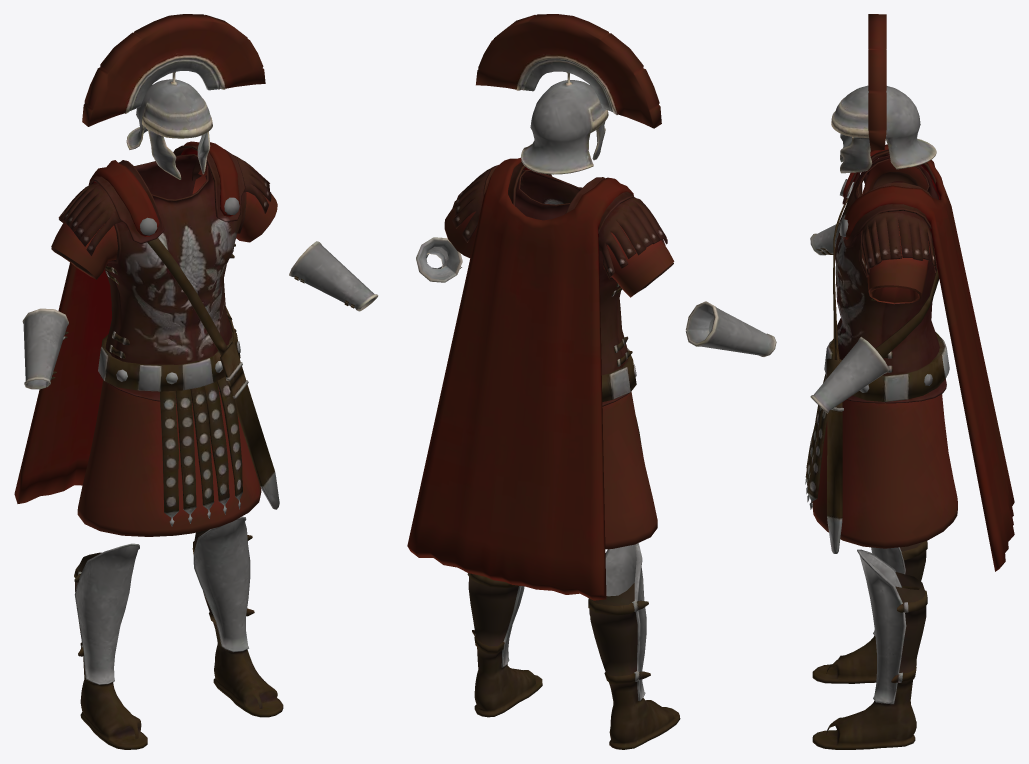
The model's file is roman_centurion_armor.glb.
The picture shows the model from 3 angles, left to right: view 1: azimuth 30°, elevation 25°; view 2: azimuth 150°, elevation 25°; view 3: azimuth 270°, elevation 25°; orthographic projection. The views are drawn at different scales.
Visible parts, largest first — view 1: Cylinder.007, Cylinder.041, Cylinder.034, Cylinder.020, Cylinder.010, Cylinder.038, Cylinder.032, Cylinder.037, Cylinder.033, Cylinder.049, Cylinder.045, Cylinder.052; view 2: Cylinder.034, Cylinder.041, Cylinder.038, Cylinder.020, Cylinder.037, Cylinder.007, Cylinder.032, Cylinder.049, Cylinder.045, Cylinder.052, Cylinder.010; view 3: Cylinder.020, Cylinder.041, Cylinder.034, Cylinder.007, Cylinder.037, Cylinder.010, Cylinder.033, Cylinder.049, Cylinder.032, Cylinder.038, Cylinder.045, Cylinder.052 (+1 smaller).
Boxes of the visible parts, left/top/right/bottom form: Cylinder.007: left=100, top=154, right=246, bottom=403; Cylinder.041: left=74, top=516, right=283, bottom=749; Cylinder.034: left=14, top=141, right=240, bottom=503; Cylinder.020: left=77, top=379, right=261, bottom=536; Cylinder.010: left=98, top=332, right=242, bottom=526; Cylinder.038: left=82, top=14, right=265, bottom=126; Cylinder.032: left=22, top=241, right=378, bottom=389; Cylinder.037: left=126, top=72, right=212, bottom=179; Cylinder.033: left=147, top=238, right=279, bottom=509; Cylinder.049: left=58, top=155, right=271, bottom=255; Cylinder.045: left=51, top=166, right=277, bottom=279; Cylinder.052: left=89, top=145, right=245, bottom=243; Cylinder.034: left=407, top=157, right=633, bottom=600; Cylinder.041: left=467, top=543, right=680, bottom=749; Cylinder.038: left=476, top=14, right=661, bottom=128; Cylinder.020: left=602, top=391, right=657, bottom=549; Cylinder.037: left=521, top=72, right=608, bottom=174; Cylinder.007: left=515, top=169, right=632, bottom=406; Cylinder.032: left=416, top=237, right=776, bottom=356; Cylinder.049: left=452, top=166, right=667, bottom=277; Cylinder.045: left=444, top=202, right=674, bottom=297; Cylinder.052: left=483, top=161, right=635, bottom=233; Cylinder.010: left=602, top=348, right=642, bottom=451; Cylinder.020: left=812, top=394, right=957, bottom=548; Cylinder.041: left=812, top=541, right=927, bottom=749; Cylinder.034: left=843, top=144, right=1014, bottom=571; Cylinder.007: left=834, top=155, right=946, bottom=403; Cylinder.037: left=831, top=85, right=936, bottom=173; Cylinder.010: left=805, top=332, right=949, bottom=509; Cylinder.033: left=826, top=197, right=939, bottom=553; Cylinder.049: left=861, top=153, right=936, bottom=276; Cylinder.032: left=810, top=223, right=889, bottom=413; Cylinder.038: left=868, top=14, right=886, bottom=150; Cylinder.045: left=861, top=159, right=929, bottom=304; Cylinder.052: left=839, top=149, right=938, bottom=247.
Size of the model in its own units: 1.07 by 2 by 0.5549.
Materials: 1 (1 with a texture image).
